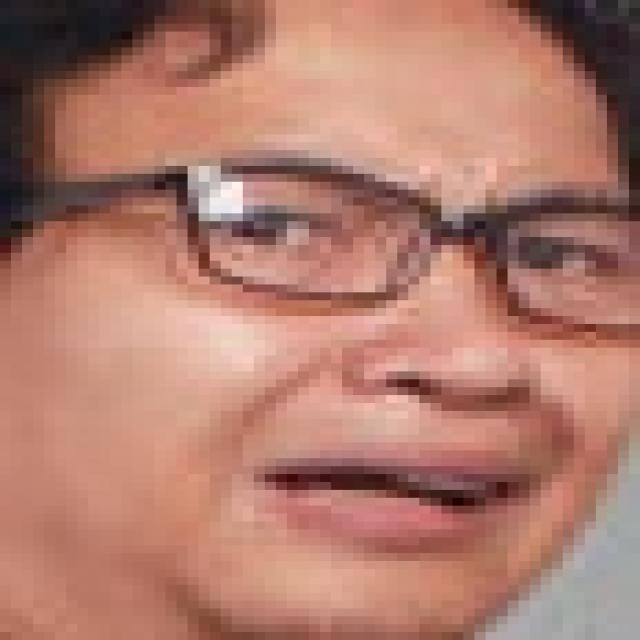Anxiety: (9, 0, 629, 632)
